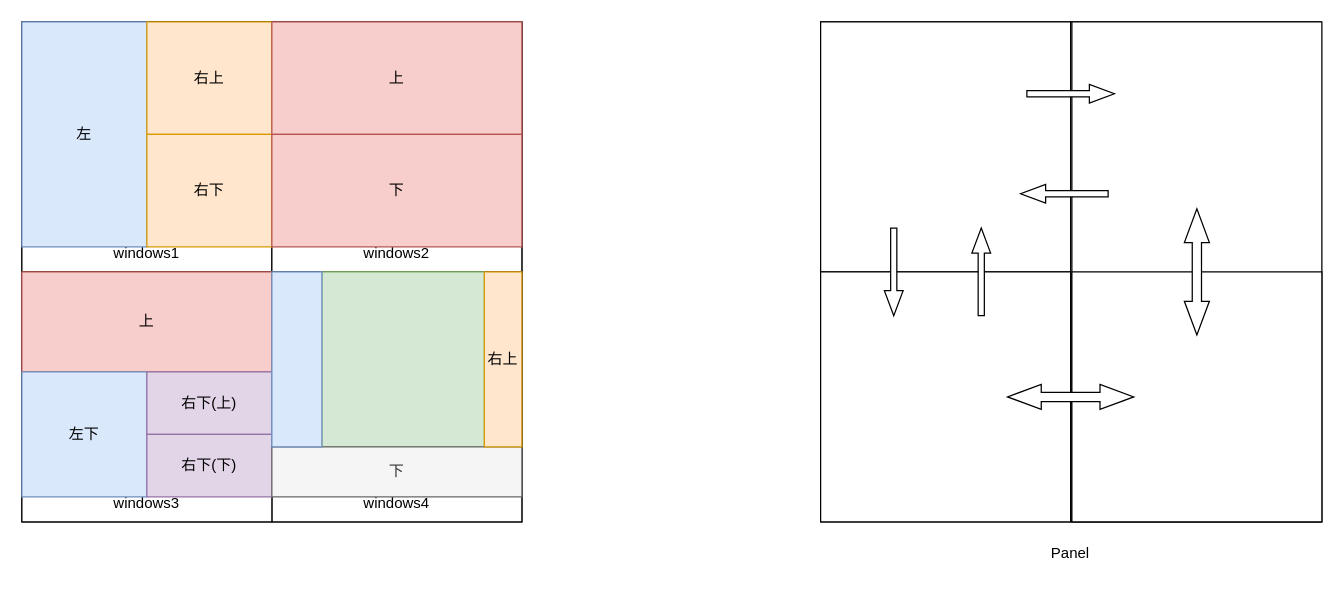
Image size: 1344x594. Some labels were removed from this diagram. Each missing label, with the centre of its shape:
"中上" belongs at [402,359].
"左上" belongs at [296,359].
